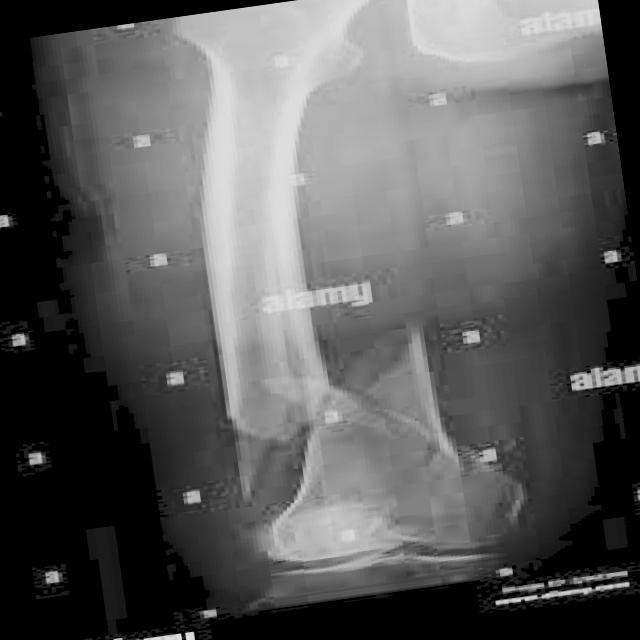Comminuted Fracture: (214, 394, 350, 546)
